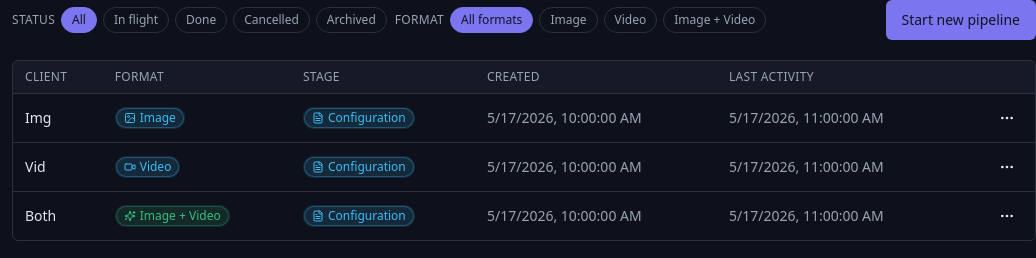
PipelineList › format chips filter rows
The width and height of the screenshot is (1036, 258).
Click the button "Video": click(630, 20) [604,7,657,33]
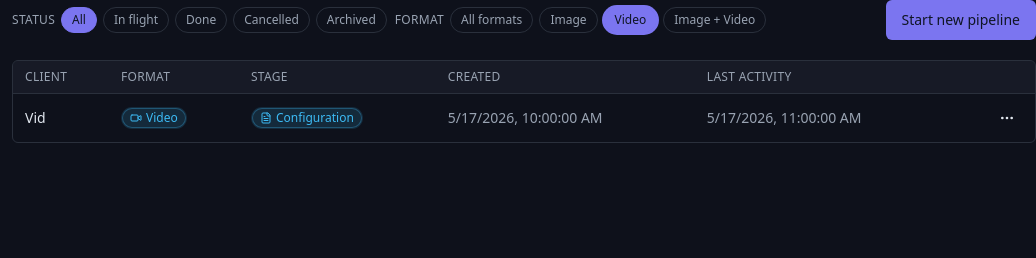
expect the link "Vid" is shown: met, box [25,108,46,127]
expect the link "Img" is gone: met
expect the link "Both" is gone: met
